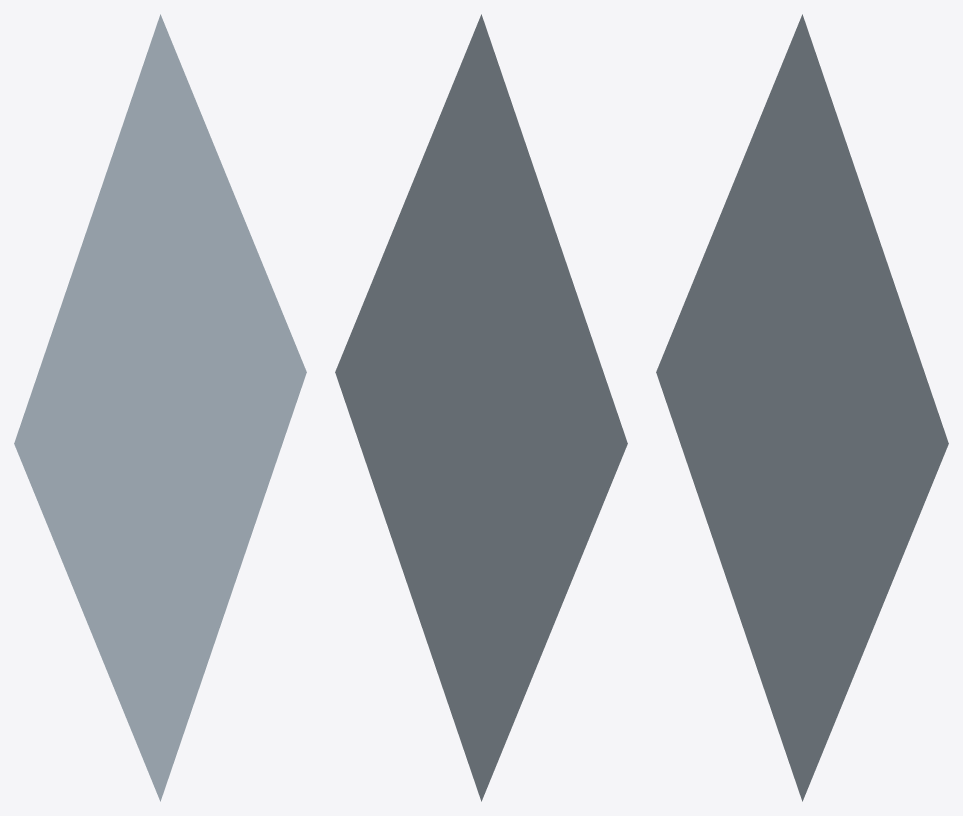
Rendered from Albedo_SolarIsotomaState_Overall_AmberDiamond.fbx.
3 renders of one model, left to right at view 1: azimuth 30°, elevation 25°; view 2: azimuth 150°, elevation 25°; view 3: azimuth 330°, elevation 25°, orthographic.
Visible parts, largest first — view 1: PART_AmberFloatingDiamond; view 2: PART_AmberFloatingDiamond; view 3: PART_AmberFloatingDiamond.
Boxes of the visible parts, bbox=[...] form: PART_AmberFloatingDiamond: bbox=[14, 14, 306, 801]; PART_AmberFloatingDiamond: bbox=[335, 14, 627, 801]; PART_AmberFloatingDiamond: bbox=[656, 14, 948, 801].
Bounding box in the file's own units: 7 × 18 × 2.93e-06.
